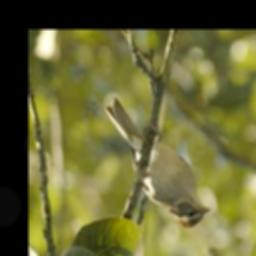Sparrow: (105, 96, 212, 230)
